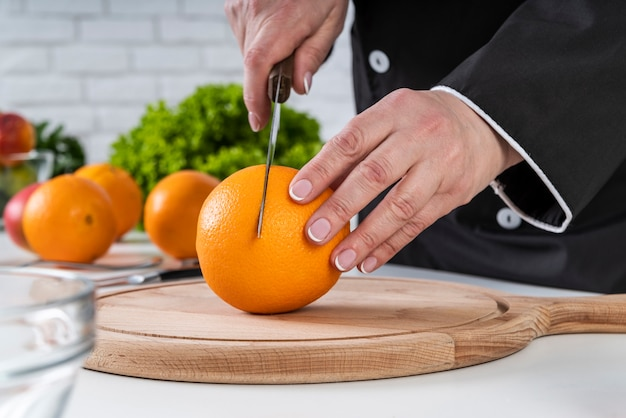knife: (256, 60, 291, 242)
